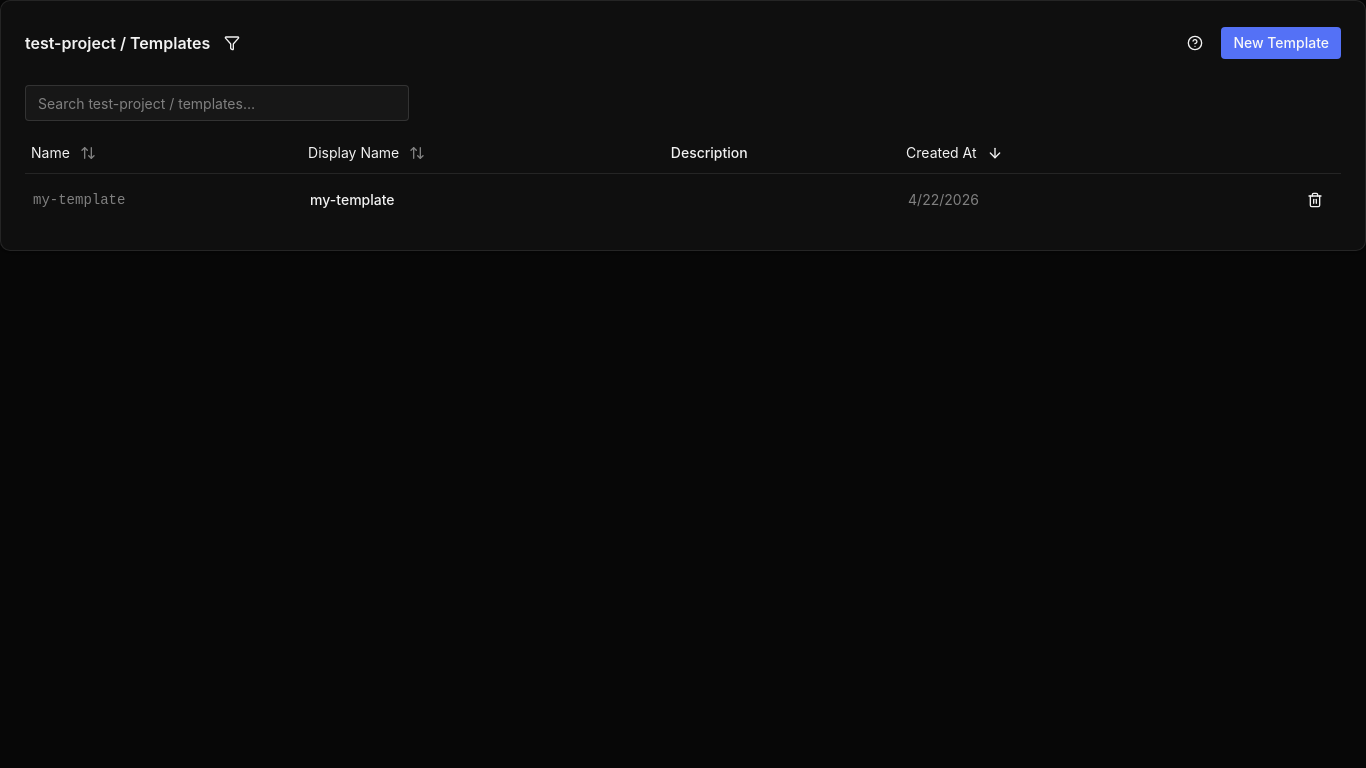
ProjectTemplatesIndexPage — authoring cluster (HOL-974) › delete button opens ConfirmDeleteDialog
Click the button named "delete my-template" at (1315, 200), box [1297,182,1333,218]
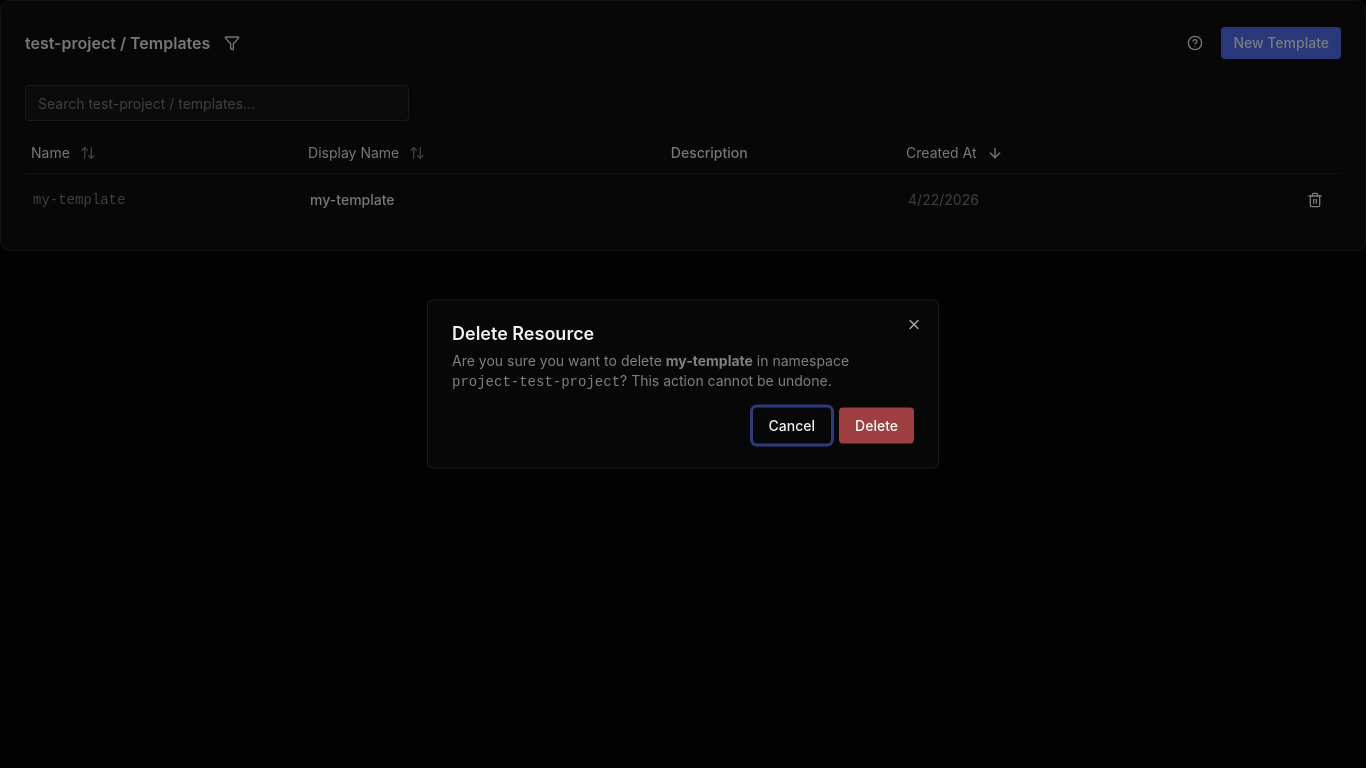
expect the dialog is shown: met, box [427,300,939,468]
